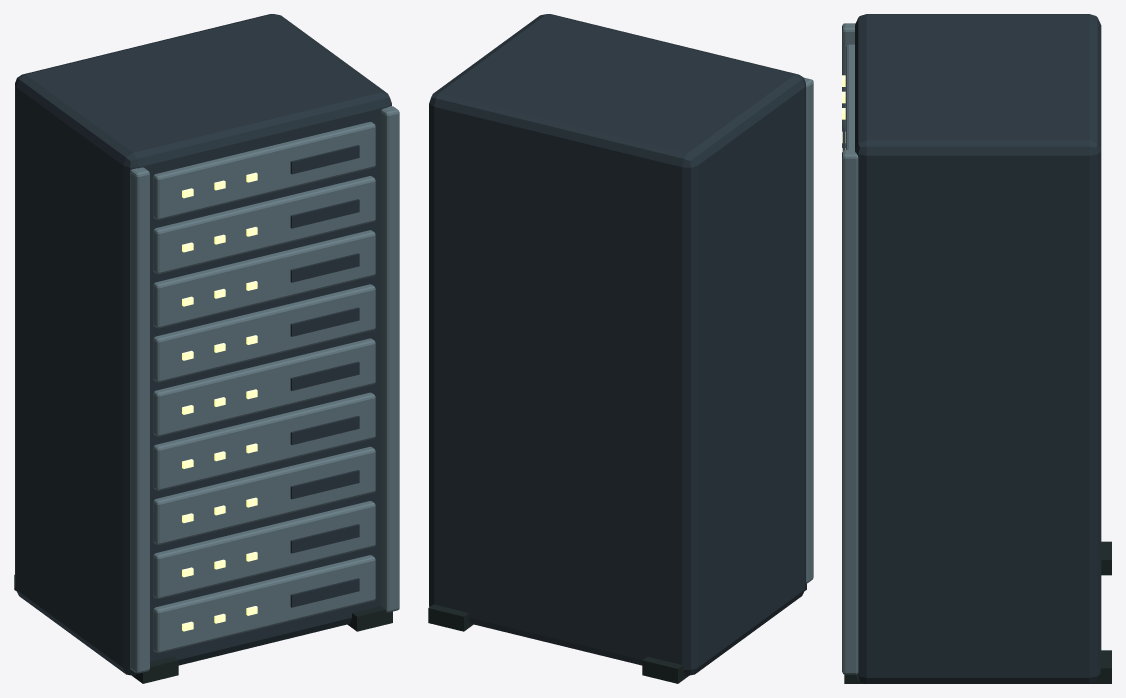
File: rack.glb
3 views of the same model, side by side, from view 1: azimuth 30°, elevation 25°; view 2: azimuth 150°, elevation 25°; view 3: azimuth 270°, elevation 25° (orthographic). The views are drawn at different scales.
Visible parts, largest first — view 1: Cabinet, Frame, Status LED, Feet; view 2: Cabinet, Frame, Feet; view 3: Cabinet, Frame, Feet.
Part boxes in pixels (x1,y1,x2,y2): Cabinet: (15, 14, 391, 675); Frame: (130, 106, 399, 673); Status LED: (182, 172, 257, 631); Feet: (14, 574, 392, 683); Cabinet: (429, 14, 805, 675); Frame: (804, 77, 813, 583); Feet: (428, 583, 806, 683); Cabinet: (842, 14, 1101, 683); Frame: (842, 23, 858, 674); Feet: (844, 541, 1111, 683).
Bounding box in the file's own units: 1.5 × 2.8 × 1.26.
